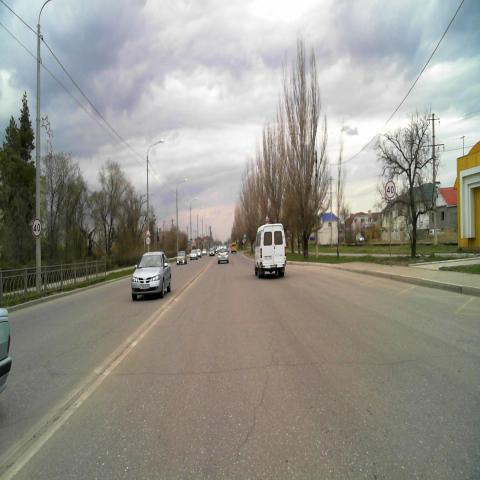1_17: (146, 229, 151, 238)
3_24: (384, 180, 396, 200), (31, 217, 42, 238), (146, 237, 151, 244)
